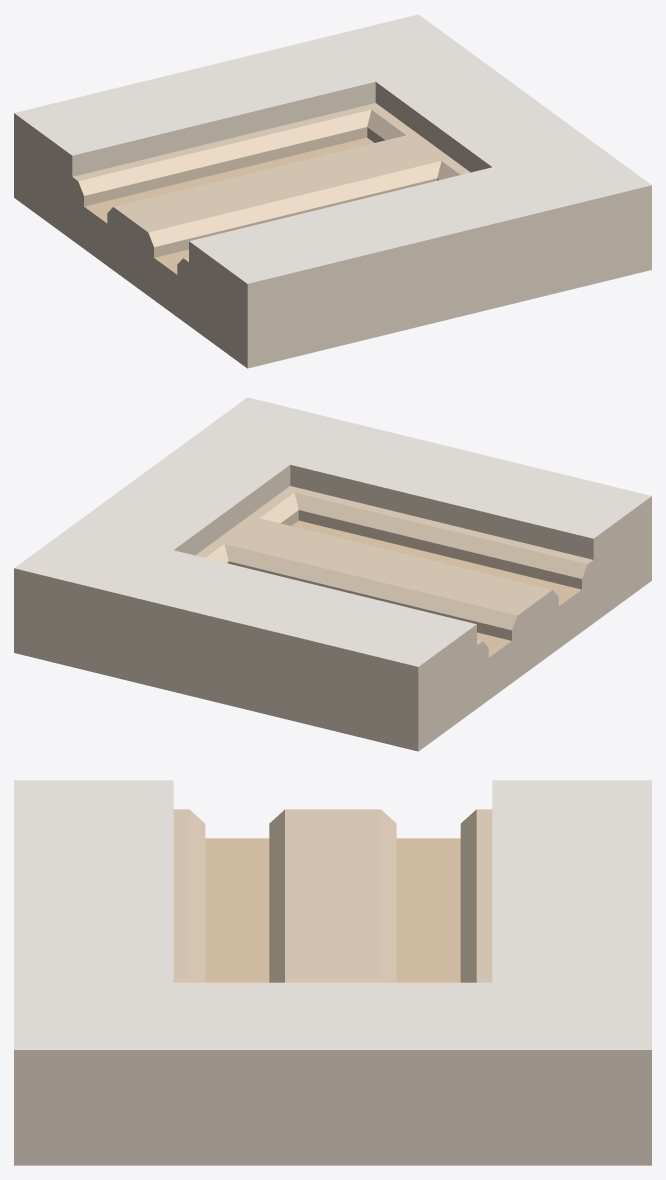
File: Puzzle_Track_Standard_End.glb
The picture shows the model from 3 angles, top to bottom: view 1: azimuth 30°, elevation 25°; view 2: azimuth 150°, elevation 25°; view 3: azimuth 270°, elevation 25°; orthographic projection. The views are drawn at different scales.
Visible parts, largest first — view 1: Puzzle_Track_Standard_End; view 2: Puzzle_Track_Standard_End; view 3: Puzzle_Track_Standard_End.
Part boxes in pixels (x1,y1,x2,y2): Puzzle_Track_Standard_End: [14, 14, 651, 368]; Puzzle_Track_Standard_End: [14, 397, 651, 751]; Puzzle_Track_Standard_End: [14, 780, 651, 1165].
Size of the model in its own units: 1 by 0.2 by 1.
